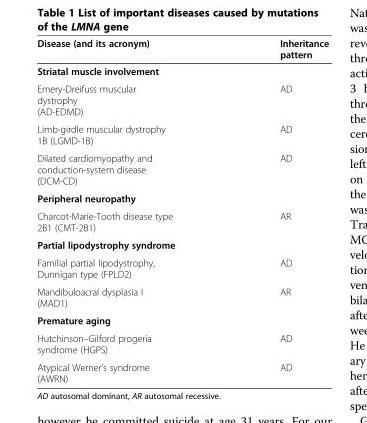table: (36, 37, 328, 383)
table column: (36, 37, 226, 383), (226, 37, 328, 383)
table column header: (36, 37, 328, 62)
table projected row header: (36, 235, 328, 253), (36, 311, 328, 329), (36, 62, 328, 79), (36, 189, 328, 206)
table row: (36, 148, 328, 189), (36, 79, 328, 119), (36, 119, 328, 148), (36, 206, 328, 235), (36, 253, 328, 282), (36, 282, 328, 311), (36, 329, 328, 358), (36, 37, 328, 62), (36, 358, 328, 383), (36, 235, 328, 253), (36, 311, 328, 329), (36, 62, 328, 79), (36, 189, 328, 206)
